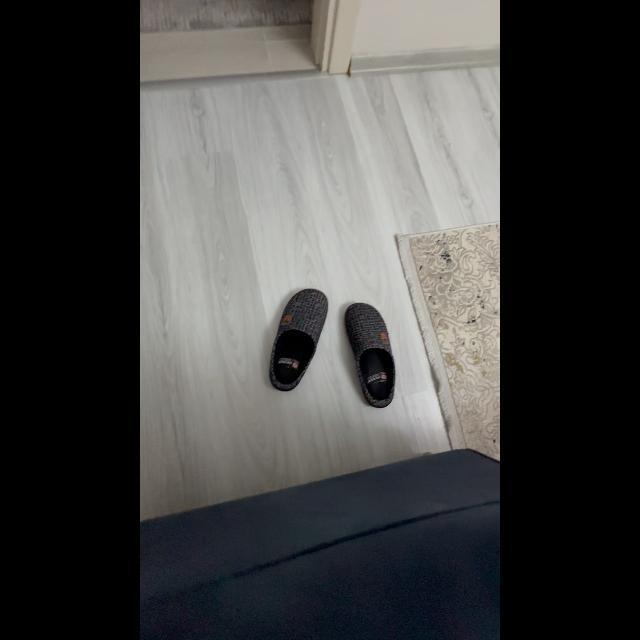slipper: (264, 282, 334, 394), (344, 298, 398, 407)
